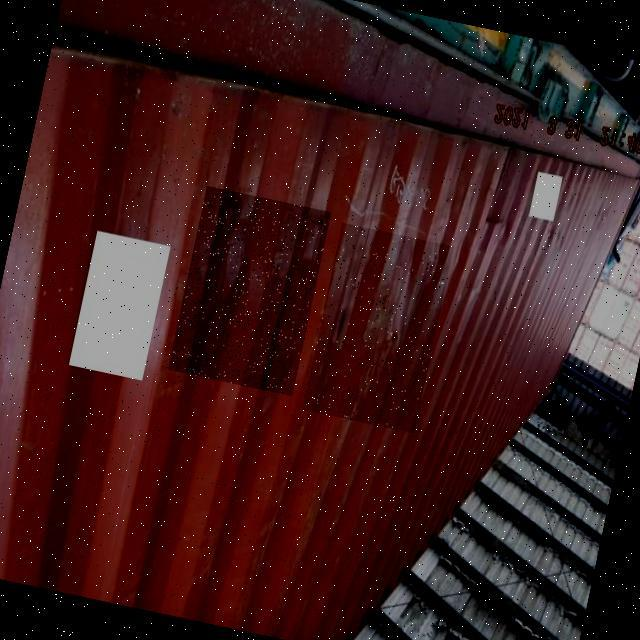Dent: (302, 223, 453, 433)
Minor-Dent: (168, 186, 331, 396)
